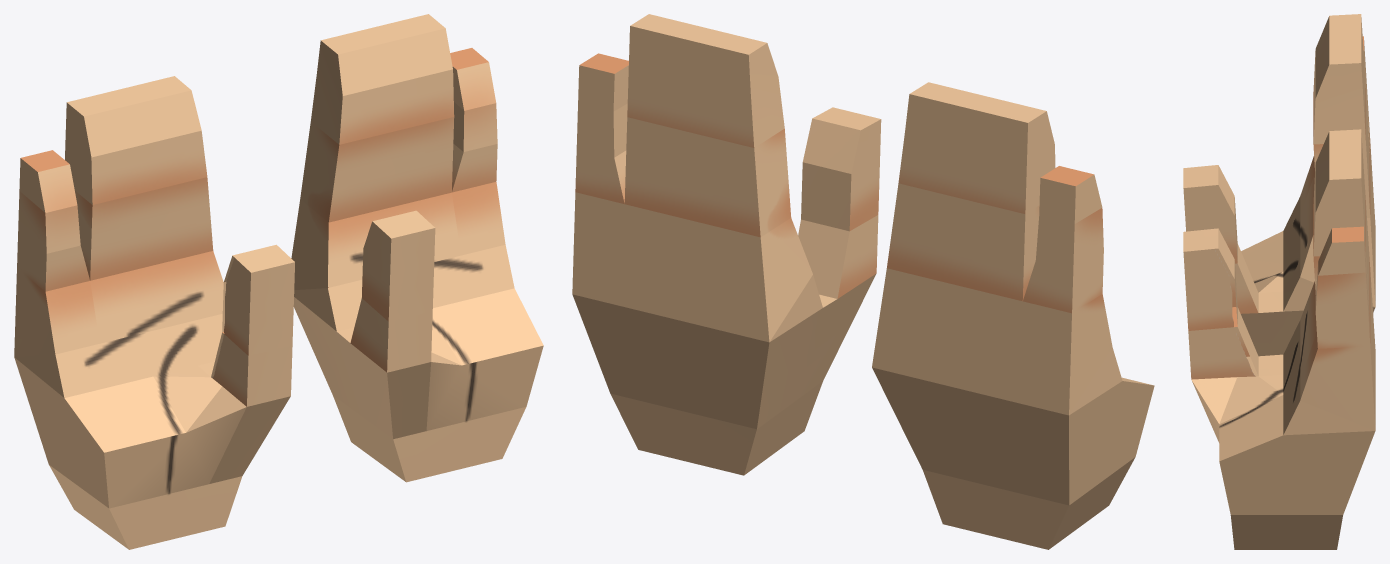
File: male mitten hand1.fbx
3 renders of one model, left to right at view 1: azimuth 30°, elevation 25°; view 2: azimuth 150°, elevation 25°; view 3: azimuth 270°, elevation 25°, orthographic. The views are drawn at different scales.
Visible parts, largest first — view 1: Male_Right_Hand.001, Male_Left_Hand.001, Male_Left_Hand_Finger.002, Male_Right_Hand_Finger.002, Male_Left_Hand_Finger.001, Male_Right_Hand_Finger.001, Male_Right_Hand_Finger, Male_Left_Hand_Finger, Male_Left_Hand_Thumb, Male_Right_Hand_Thumb, Male_Right_Hand_Pinkry, Male_Right_Hand_Pinkry.001 (+4 smaller); view 2: Male_Left_Hand.001, Male_Right_Hand.001, Male_Left_Hand_Finger, Male_Left_Hand_Finger.002, Male_Right_Hand_Finger.002, Male_Right_Hand_Finger, Male_Left_Hand_Finger.001, Male_Right_Hand_Finger.001, Male_Left_Hand_Thumb, Male_Right_Hand_Pinkry, Male_Right_Hand_Pinkry.001, Male_Left_Hand_Pinkry (+3 smaller); view 3: Male_Left_Hand.001, Male_Right_Hand.001, Male_Right_Hand_Finger.002, Male_Left_Hand_Finger.002, Male_Left_Hand_Pinkry, Male_Left_Hand_Thumb, Male_Left_Hand_Pinkry.001, Male_Right_Hand_Thumb, Male_Left_Hand_Pinkry.002, Male_Right_Hand_Finger, Male_Left_Hand_Finger, Male_Right_Hand_Finger.001 (+2 smaller).
Boxes of the visible parts, <box> form: Male_Right_Hand.001: <box>14,314,292,549</box>; Male_Left_Hand.001: <box>293,245,543,482</box>; Male_Left_Hand_Finger.002: <box>311,14,454,144</box>; Male_Right_Hand_Finger.002: <box>65,76,207,204</box>; Male_Left_Hand_Finger.001: <box>300,117,454,222</box>; Male_Right_Hand_Finger.001: <box>75,177,213,280</box>; Male_Right_Hand_Finger: <box>90,251,223,343</box>; Male_Left_Hand_Finger: <box>291,192,460,290</box>; Male_Left_Hand_Thumb: <box>362,210,435,321</box>; Male_Right_Hand_Thumb: <box>222,244,294,355</box>; Male_Right_Hand_Pinkry: <box>14,268,99,356</box>; Male_Right_Hand_Pinkry.001: <box>17,191,89,291</box>; Male_Left_Hand.001: <box>572,215,878,475</box>; Male_Right_Hand.001: <box>872,348,1154,549</box>; Male_Left_Hand_Finger: <box>621,204,812,342</box>; Male_Left_Hand_Finger.002: <box>627,14,784,147</box>; Male_Right_Hand_Finger.002: <box>898,82,1055,214</box>; Male_Right_Hand_Finger: <box>872,268,1022,403</box>; Male_Left_Hand_Finger.001: <box>624,117,791,237</box>; Male_Right_Hand_Finger.001: <box>887,183,1039,301</box>; Male_Left_Hand_Thumb: <box>801,107,881,231</box>; Male_Right_Hand_Pinkry: <box>1019,294,1112,415</box>; Male_Right_Hand_Pinkry.001: <box>1023,208,1103,313</box>; Male_Left_Hand_Pinkry: <box>572,192,624,306</box>; Male_Left_Hand.001: <box>1188,307,1375,549</box>; Male_Right_Hand.001: <box>1235,196,1375,356</box>; Male_Right_Hand_Finger.002: <box>1313,14,1365,144</box>; Male_Left_Hand_Finger.002: <box>1313,129,1365,256</box>; Male_Left_Hand_Pinkry: <box>1300,328,1375,430</box>; Male_Left_Hand_Thumb: <box>1183,228,1237,330</box>; Male_Left_Hand_Pinkry.001: <box>1315,258,1370,348</box>; Male_Right_Hand_Thumb: <box>1183,165,1237,263</box>; Male_Left_Hand_Pinkry.002: <box>1318,226,1365,275</box>; Male_Right_Hand_Finger: <box>1300,164,1375,306</box>; Male_Left_Hand_Finger: <box>1300,272,1375,409</box>; Male_Right_Hand_Finger.001: <box>1313,93,1370,217</box>.
Size of the model in its own units: 39.92 by 33.48 by 15.8.
1 material, 1 textured.
